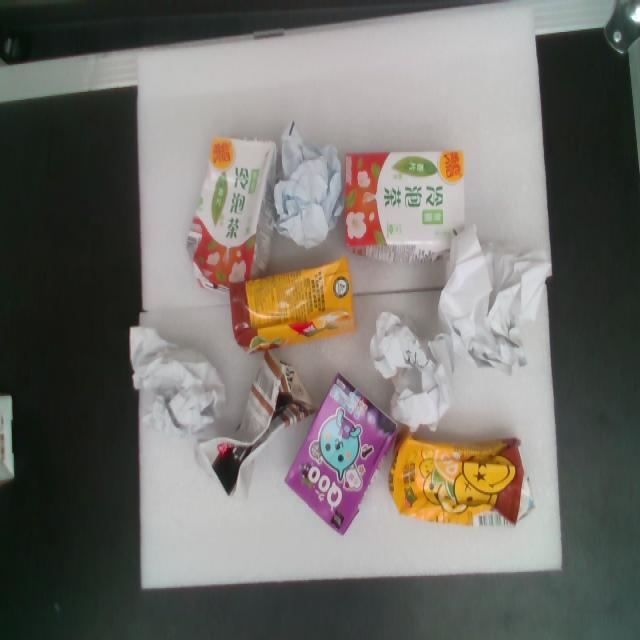juicebox: (169, 342, 342, 527), (263, 361, 418, 546), (171, 119, 288, 310), (381, 414, 553, 533), (334, 141, 471, 266), (219, 246, 366, 362)
paper: (402, 201, 594, 405), (327, 290, 487, 461), (119, 301, 240, 460), (261, 111, 362, 258)
